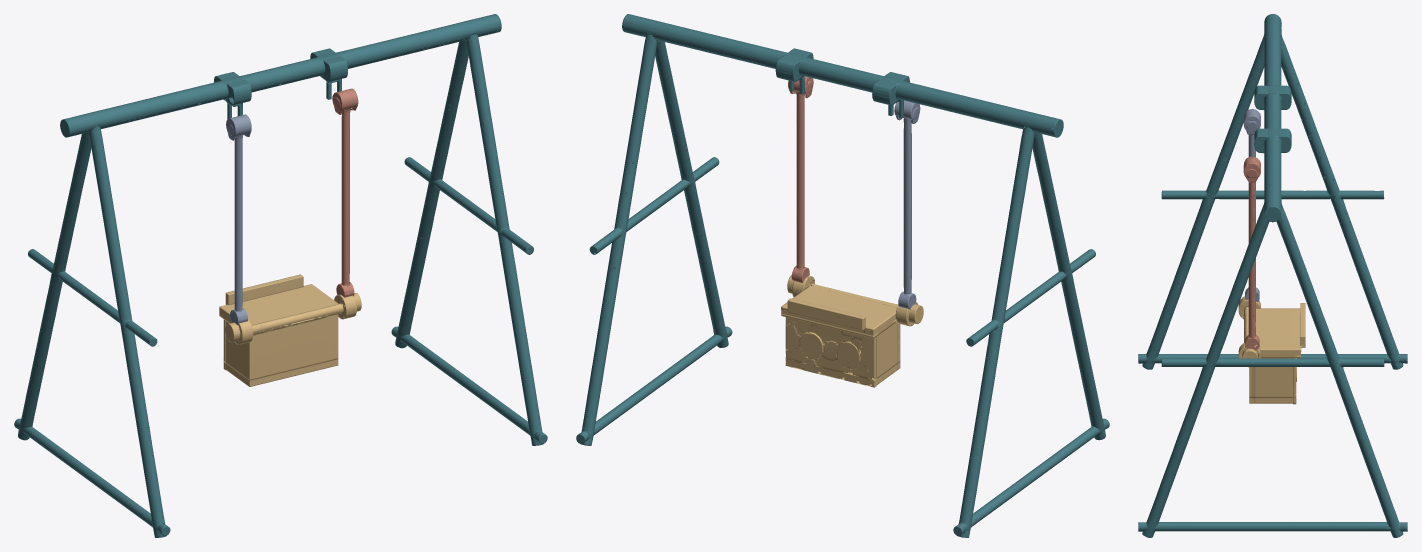
Rendered from swing.glb.
The picture shows the model from 3 angles, left to right: view 1: azimuth 30°, elevation 25°; view 2: azimuth 150°, elevation 25°; view 3: azimuth 270°, elevation 25°; orthographic projection. The views are drawn at different scales.
Visible parts, largest first — view 1: Part 01, Part 02, Part 04, Part 03; view 2: Part 01, Part 02, Part 04, Part 03; view 3: Part 01, Part 02, Part 03, Part 04.
Boxes of the visible parts, x1,y1,x2,y2 form: Part 01: (14, 14, 547, 537); Part 02: (219, 274, 361, 386); Part 04: (226, 114, 251, 325); Part 03: (332, 88, 358, 300); Part 01: (576, 14, 1109, 537); Part 02: (781, 275, 923, 387); Part 04: (894, 100, 920, 309); Part 03: (788, 76, 813, 282); Part 01: (1138, 14, 1407, 537); Part 02: (1238, 296, 1305, 404); Part 03: (1243, 156, 1260, 350); Part 04: (1243, 109, 1260, 302).
Size of the model in its own units: 1 by 0.8285 by 0.5905.
